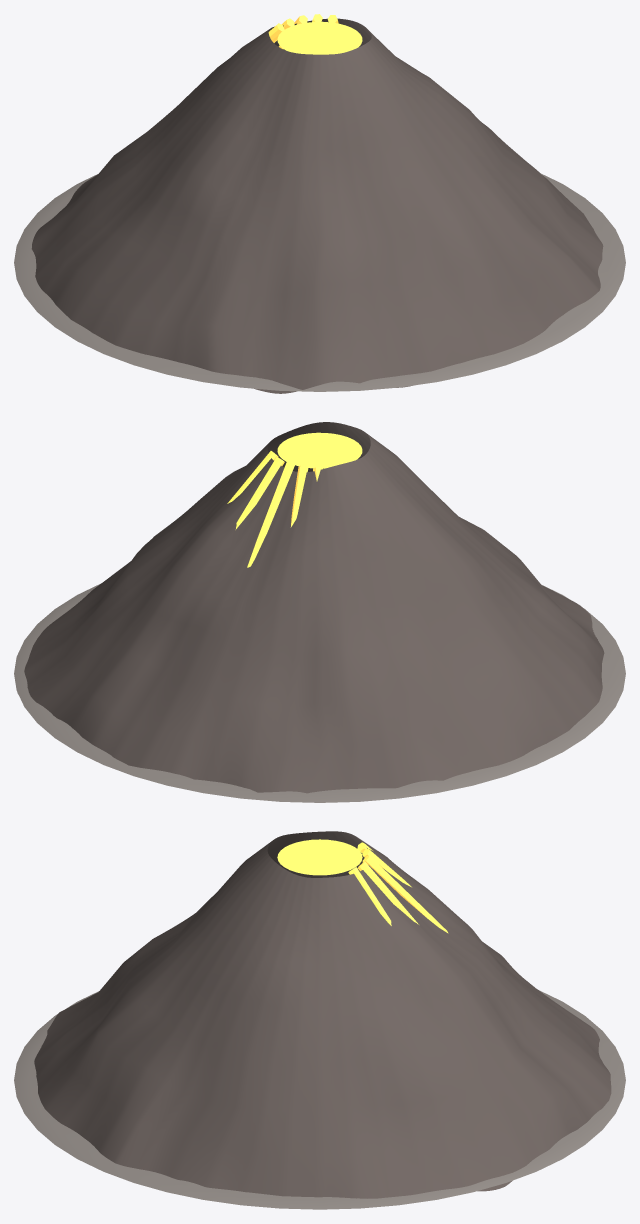
Rendered from tropic.glb.
The picture shows the model from 3 angles, top to bottom: view 1: azimuth 30°, elevation 25°; view 2: azimuth 150°, elevation 25°; view 3: azimuth 270°, elevation 25°; orthographic projection.
Visible parts, largest first — view 1: volcano; view 2: volcano; view 3: volcano.
Part boxes in pixels (x1=…): volcano: x1=14, y1=14, x2=625, y2=393; volcano: x1=14, y1=422, x2=625, y2=802; volcano: x1=14, y1=831, x2=625, y2=1209.
Size of the model in its own units: 316 by 134 by 316.
